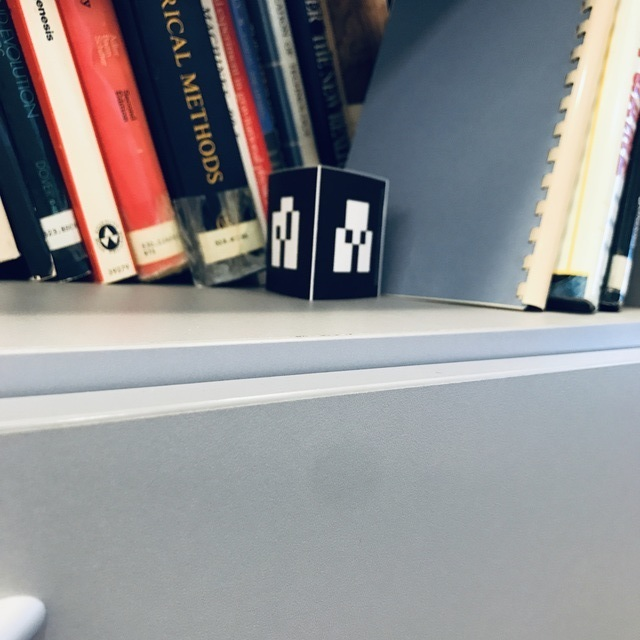ARTag: (267, 165, 389, 303)
